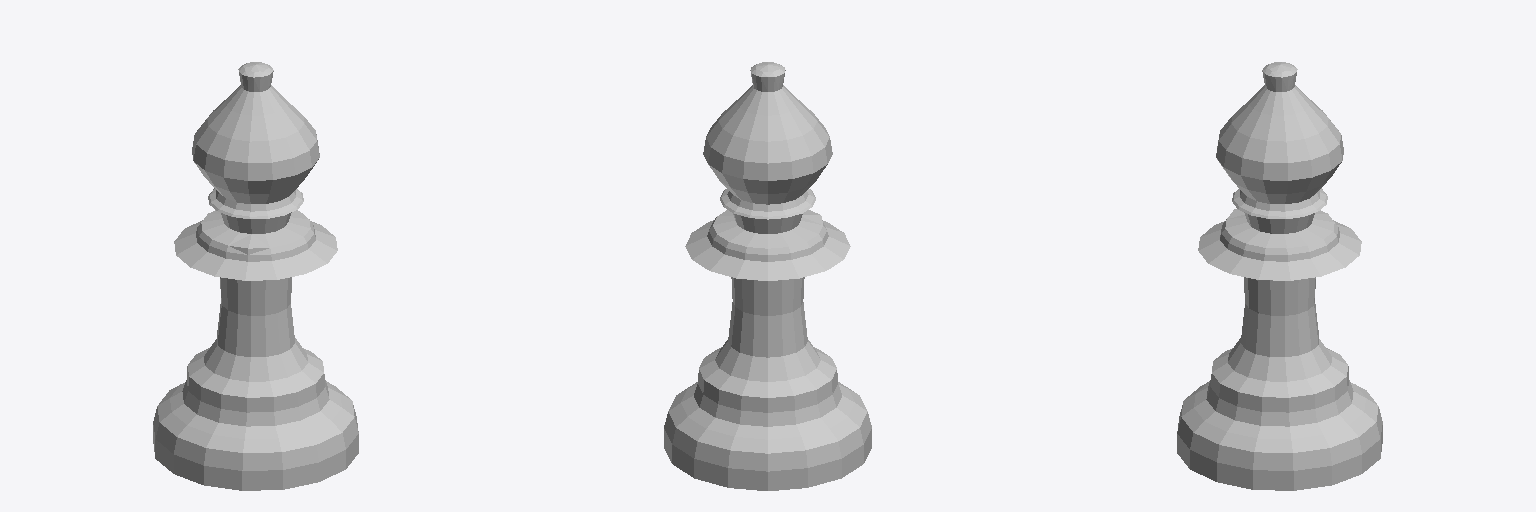
The model's file is bishop.obj.
The picture shows the model from 3 angles: view 1: azimuth 30°, elevation 25°; view 2: azimuth 150°, elevation 25°; view 3: azimuth 270°, elevation 25°; orthographic projection.
Parts seen in each view (by area): view 1: Bishop_Cylinder; view 2: Bishop_Cylinder; view 3: Bishop_Cylinder.
Part boxes in pixels (left/top/right/bottom): Bishop_Cylinder: left=153, top=62, right=358, bottom=490; Bishop_Cylinder: left=664, top=62, right=871, bottom=490; Bishop_Cylinder: left=1177, top=62, right=1382, bottom=490.
Size of the model in its own units: 0.8277 by 1.7 by 0.8277.